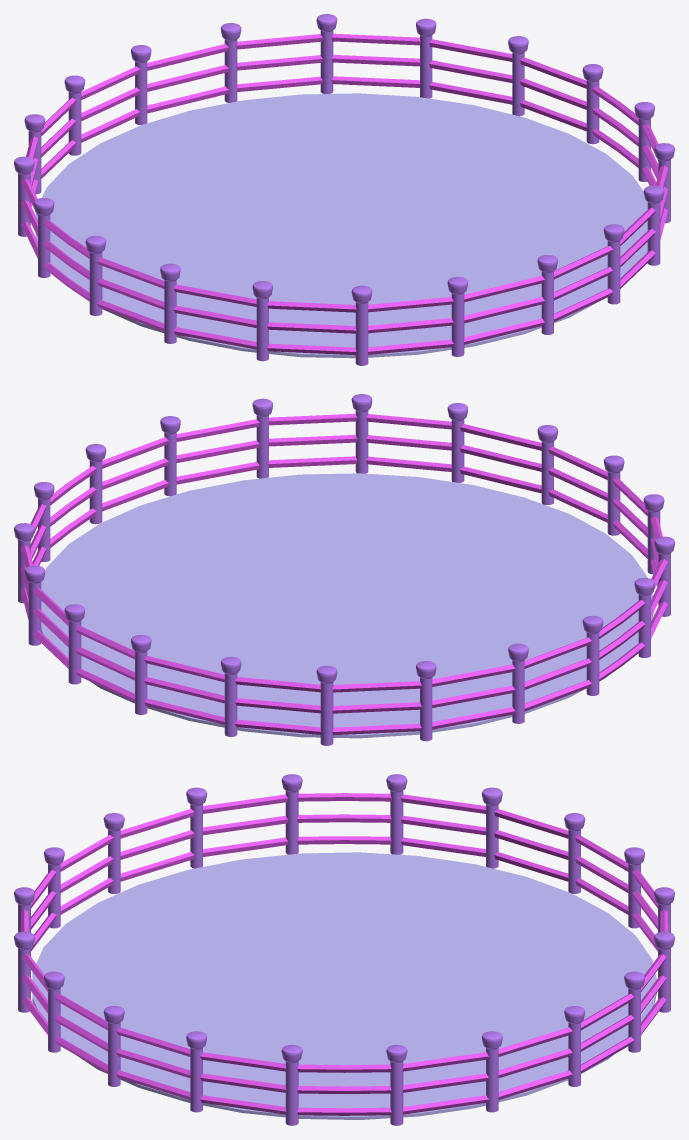
File: Loca_3.fbx
The picture shows the model from 3 angles, top to bottom: view 1: azimuth 30°, elevation 25°; view 2: azimuth 150°, elevation 25°; view 3: azimuth 270°, elevation 25°; orthographic projection.
Visible parts, largest first — view 1: Loca_3; view 2: Loca_3; view 3: Loca_3.
Part boxes in pixels (left/top/right/bottom): Loca_3: left=14, top=14, right=674, bottom=365; Loca_3: left=14, top=394, right=674, bottom=745; Loca_3: left=14, top=774, right=674, bottom=1125.
Bounding box in the file's own units: 791 × 98.69 × 791.
